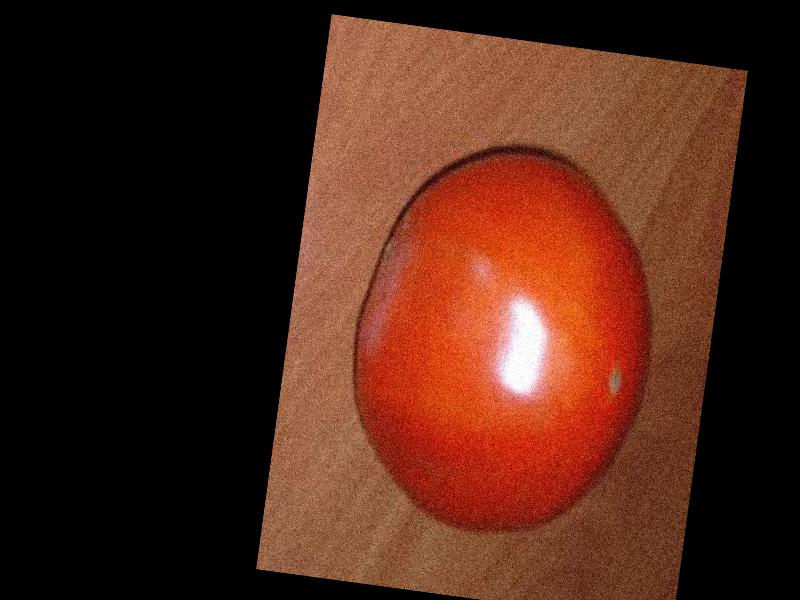Tomato: (333, 127, 677, 556)
